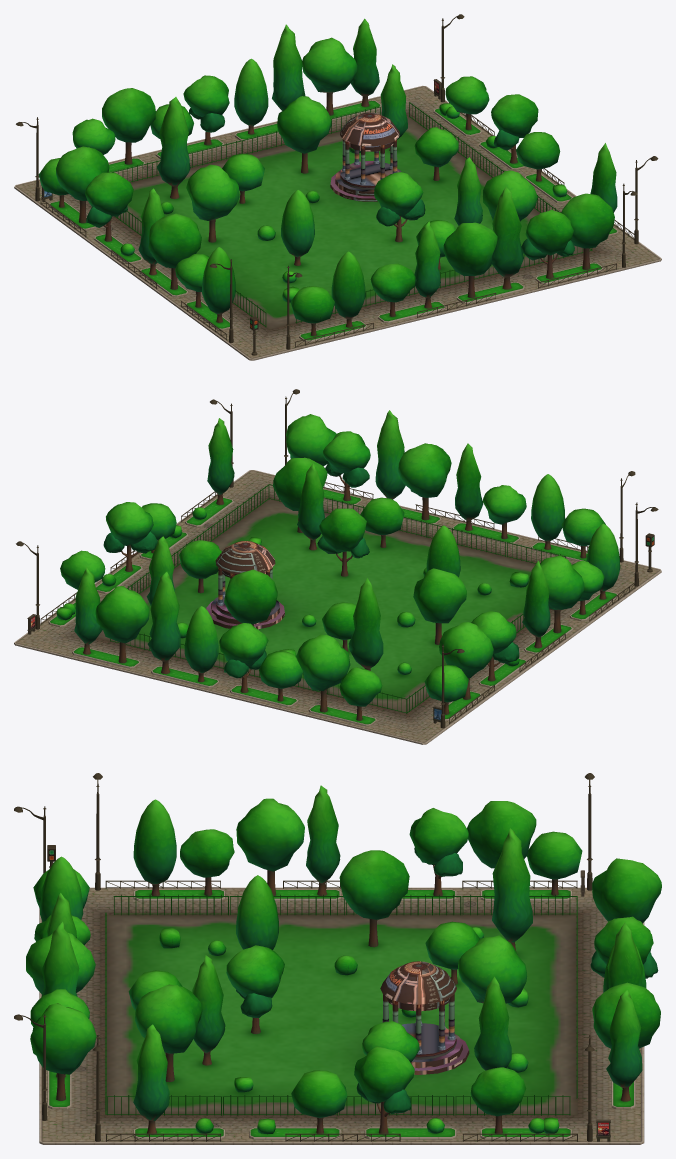
The model's file is map_MK1.glb.
The picture shows the model from 3 angles, top to bottom: view 1: azimuth 30°, elevation 25°; view 2: azimuth 150°, elevation 25°; view 3: azimuth 270°, elevation 25°; orthographic projection. The views are drawn at different scales.
Parts seen in each view (by area): view 1: tree, Object122, Sphere004; view 2: tree, Object122, Sphere004; view 3: Object122, tree, Sphere004.
Boxes of the visible parts, x1=… form: tree: x1=38, y1=18, x2=617, y2=336; Object122: x1=14, y1=14, x2=661, y2=360; Sphere004: x1=330, y1=112, x2=400, y2=201; tree: x1=56, y1=410, x2=620, y2=720; Object122: x1=14, y1=389, x2=661, y2=744; Sphere004: x1=206, y1=541, x2=284, y2=629; Object122: x1=14, y1=773, x2=644, y2=1144; tree: x1=26, y1=785, x2=661, y2=1134; Sphere004: x1=380, y1=961, x2=469, y2=1074.
Size of the model in its own units: 51.51 by 11.59 by 50.91.
Materials: 2 (2 with a texture image).
